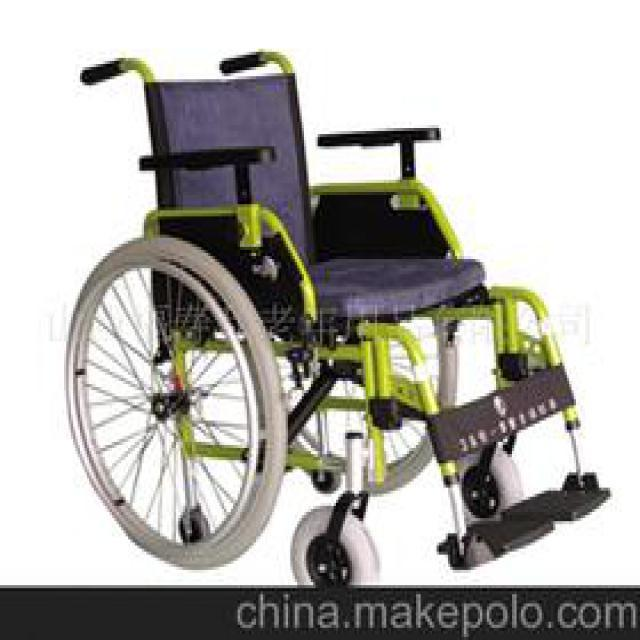wheelchairs: (73, 54, 611, 586)
